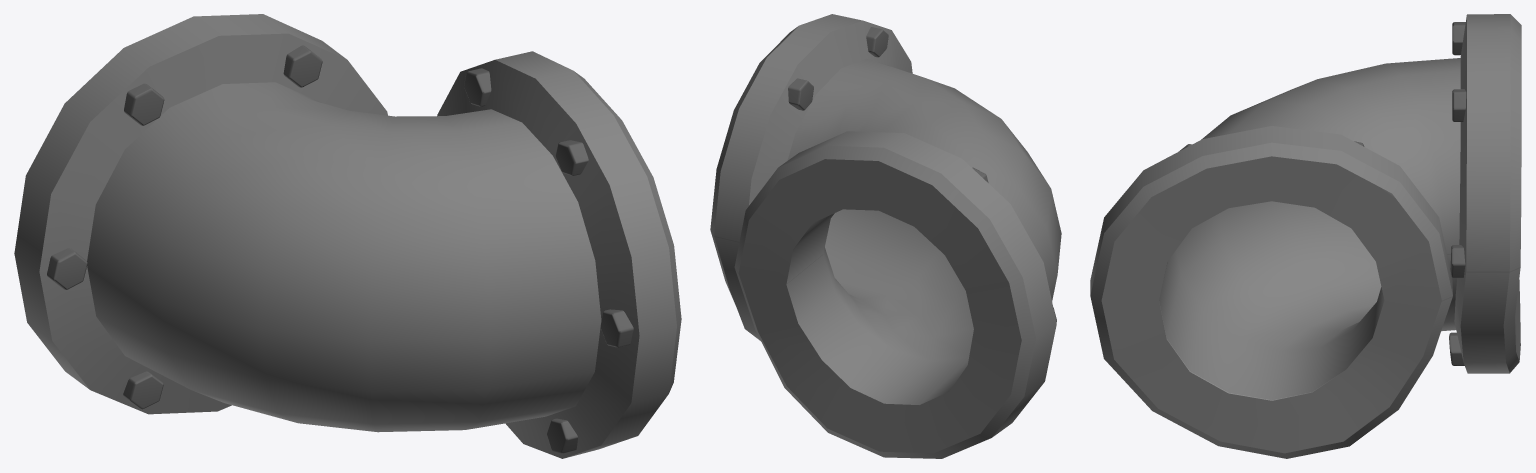
File: SM_tuyau_tournant_low.fbx
3 renders of one model, left to right at view 1: azimuth 30°, elevation 25°; view 2: azimuth 150°, elevation 25°; view 3: azimuth 270°, elevation 25°, orthographic. The views are drawn at different scales.
Parts seen in each view (by area): view 1: SM_tuyau_tournant_low; view 2: SM_tuyau_tournant_low; view 3: SM_tuyau_tournant_low.
Boxes of the visible parts, <box> form: SM_tuyau_tournant_low: <box>14,14,681,458</box>; SM_tuyau_tournant_low: <box>710,14,1061,458</box>; SM_tuyau_tournant_low: <box>1090,14,1521,458</box>.
Bounding box in the file's own units: 31.55 × 26.42 × 31.44.
Materials: 1 (1 with a texture image).
